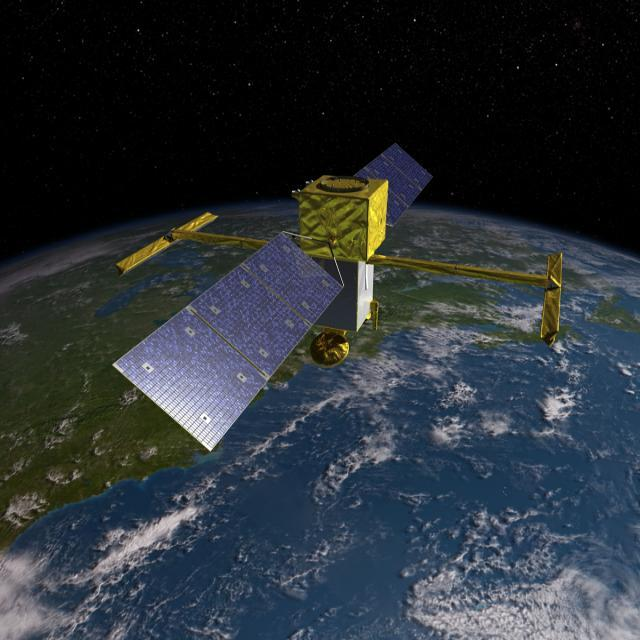sat: (107, 123, 565, 463)
